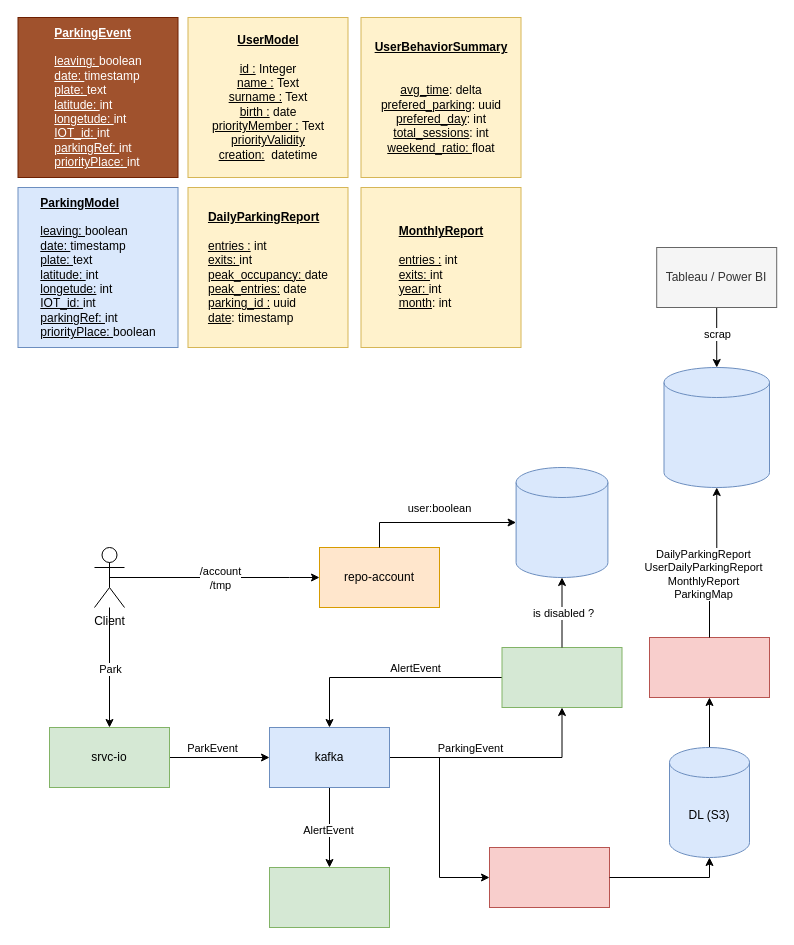
Image size: 794x945. Some labels were removed from this diagram. Each missing label, with the centre of its shape:
"KV (Redis)" belongs at (561,522).
"RDBMS" belongs at (716,427).
"srvc-alert" belongs at (561,677).
"srvc-notifier" belongs at (329,897).
"srvc-stats" belongs at (709,667).
"srvc-store" belongs at (549,877).
